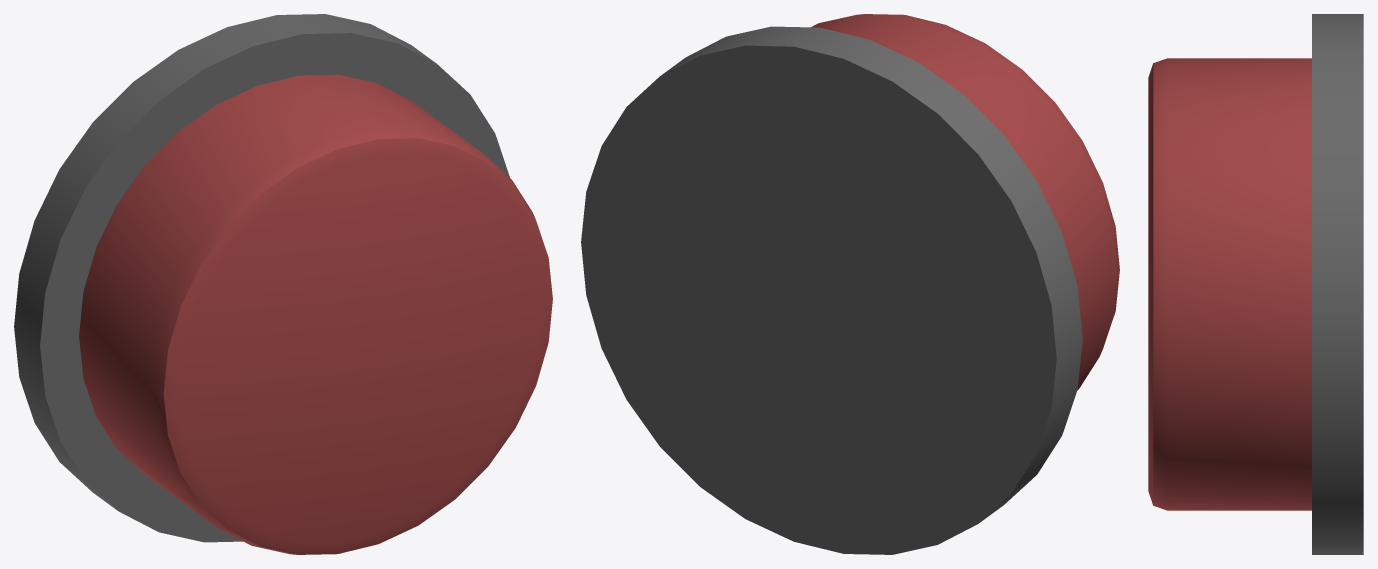
File: Lab 3 Light.fbx
The picture shows the model from 3 angles, left to right: view 1: azimuth 30°, elevation 25°; view 2: azimuth 150°, elevation 25°; view 3: azimuth 270°, elevation 25°; orthographic projection.
Parts seen in each view (by area): view 1: LightWall; view 2: LightWall; view 3: LightWall.
Boxes of the visible parts, x1,y1,x2,y2 form: LightWall: (14,14,552,554); LightWall: (581,14,1119,554); LightWall: (1148,14,1363,554).
Bounding box in the file's own units: 9.22 × 3.65 × 9.17.
